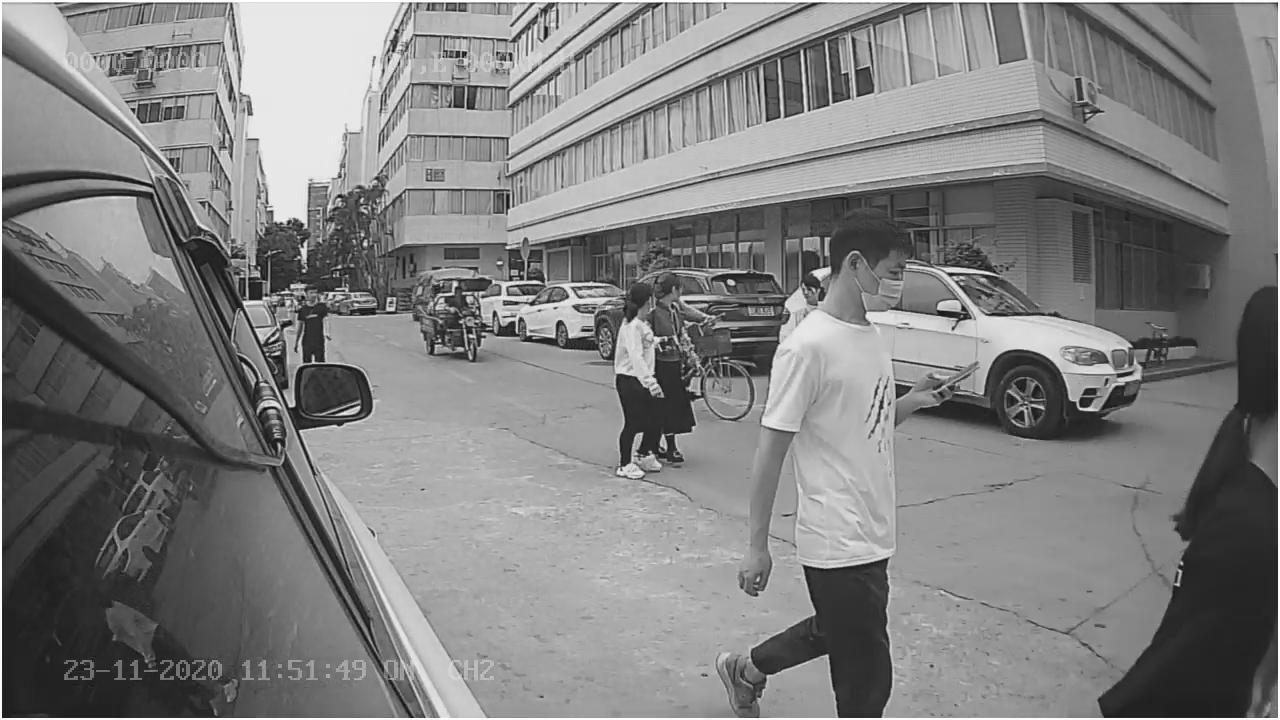person: (608, 277, 671, 481)
